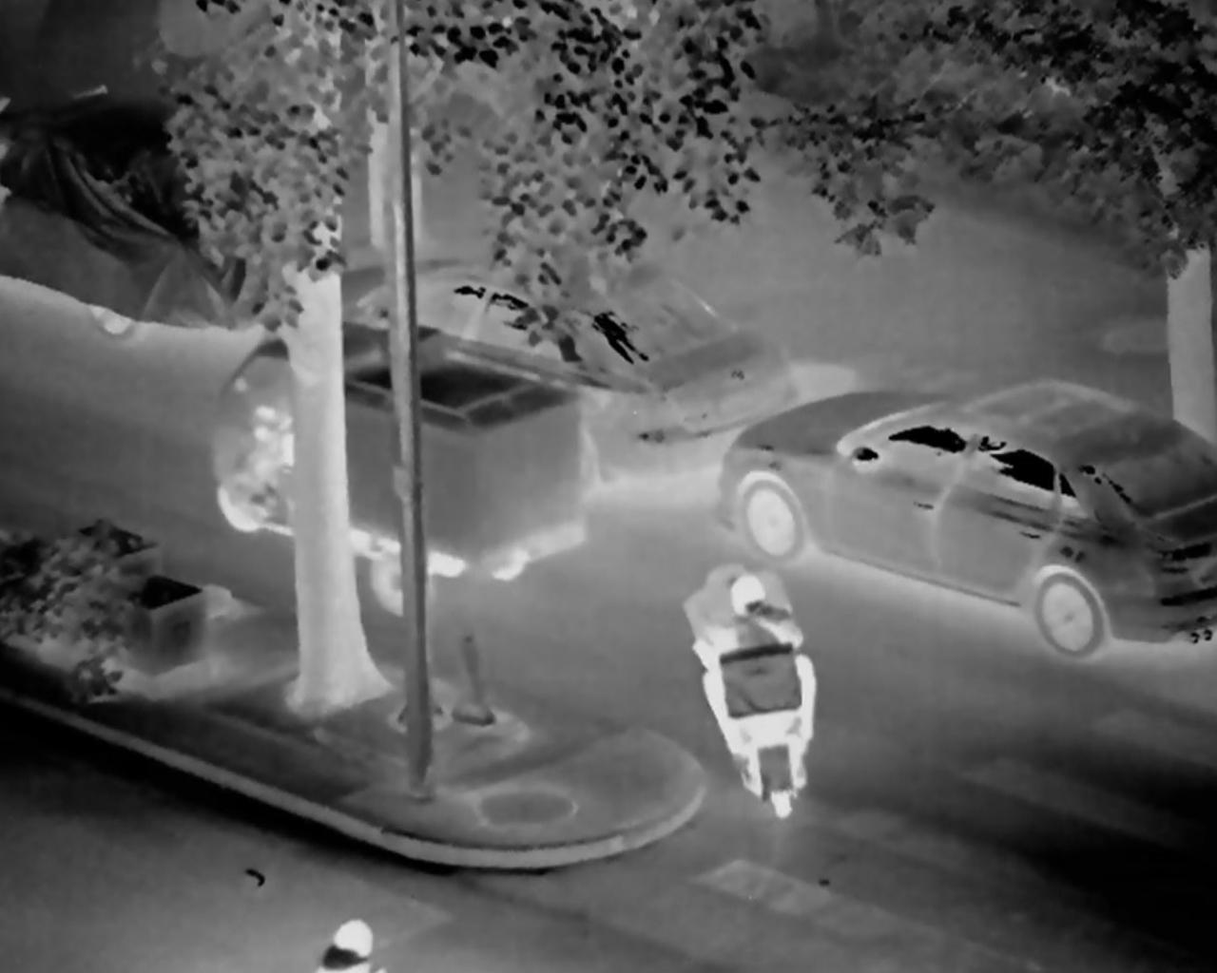person: (681, 565, 830, 831), (309, 918, 386, 973)
